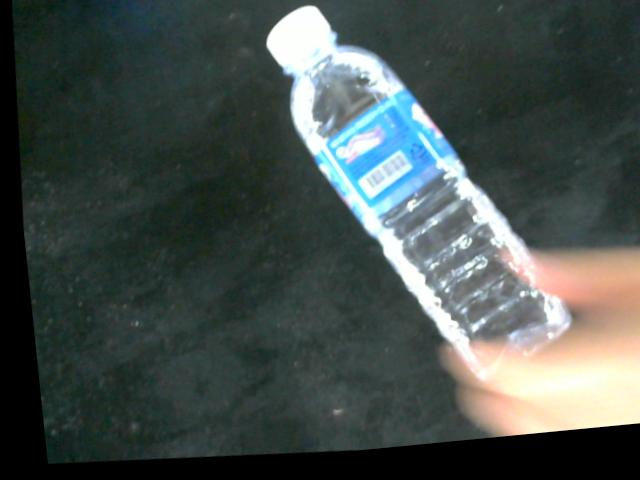bottle: (267, 10, 566, 401)
